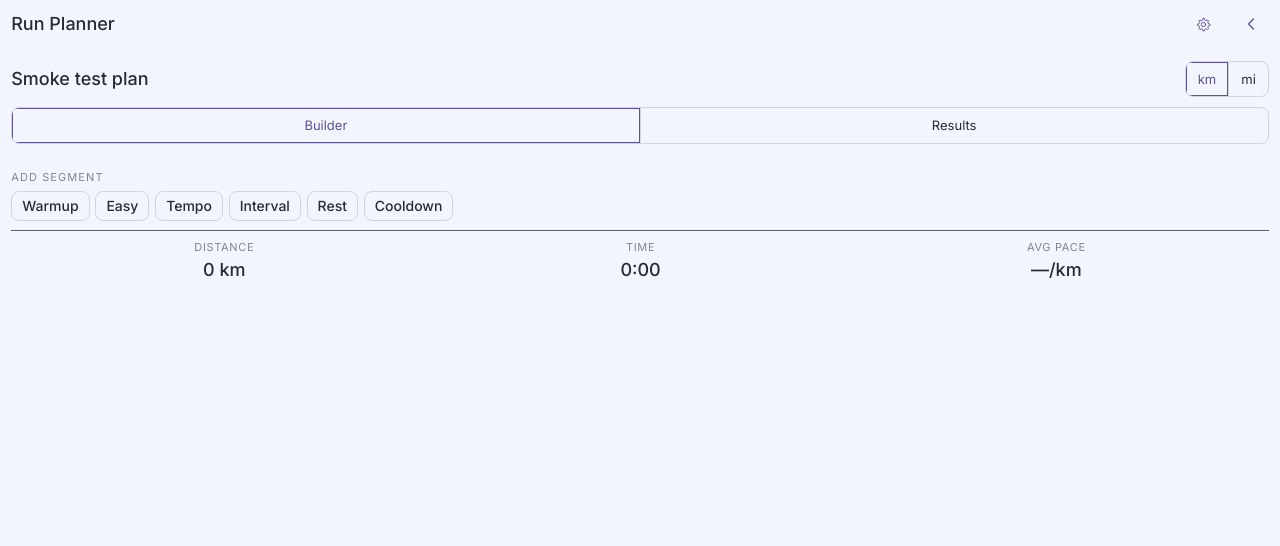
Test case: PlanScreen › adding a segment via a type chip auto-expands it with its fields visible
Click the button "Tempo". click: (189, 206)
box: [155,191,223,221]
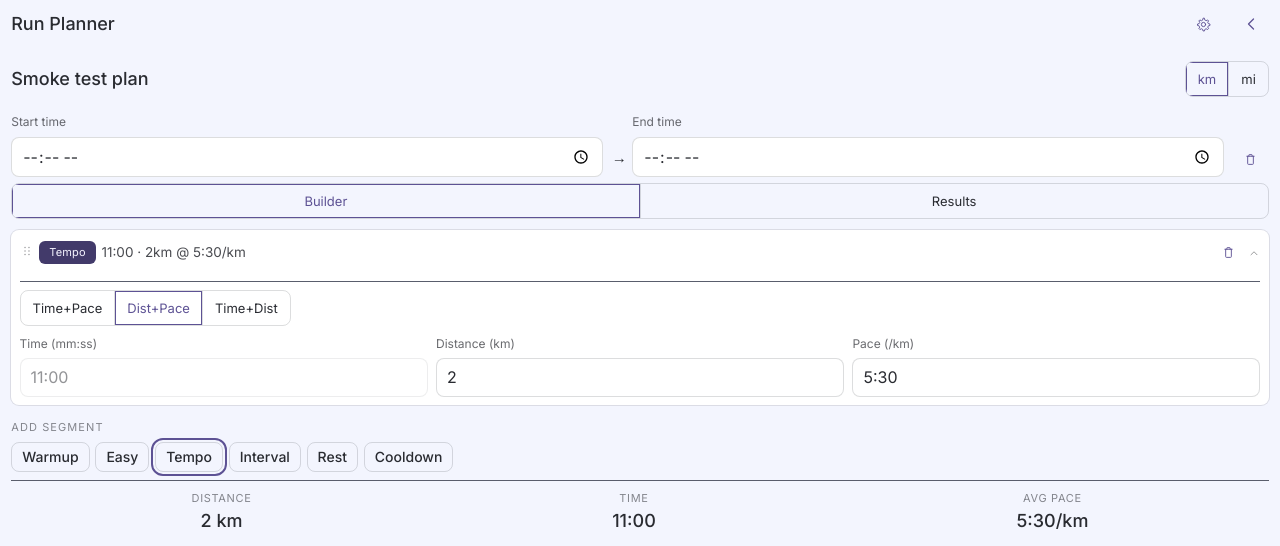
Now the element with test id "segment-fields" is shown, box [20,290,1260,397]
Now the text "11:00 · 2km @ 5:30/km" is shown, box [102,244,246,260]
